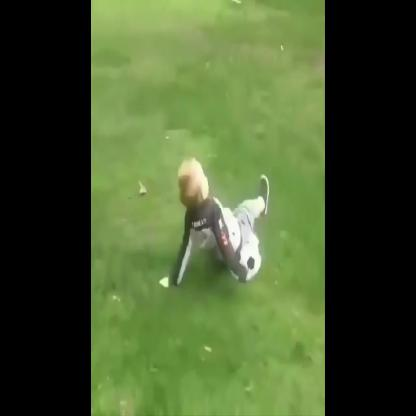Fall_Down: (158, 158, 271, 292)
